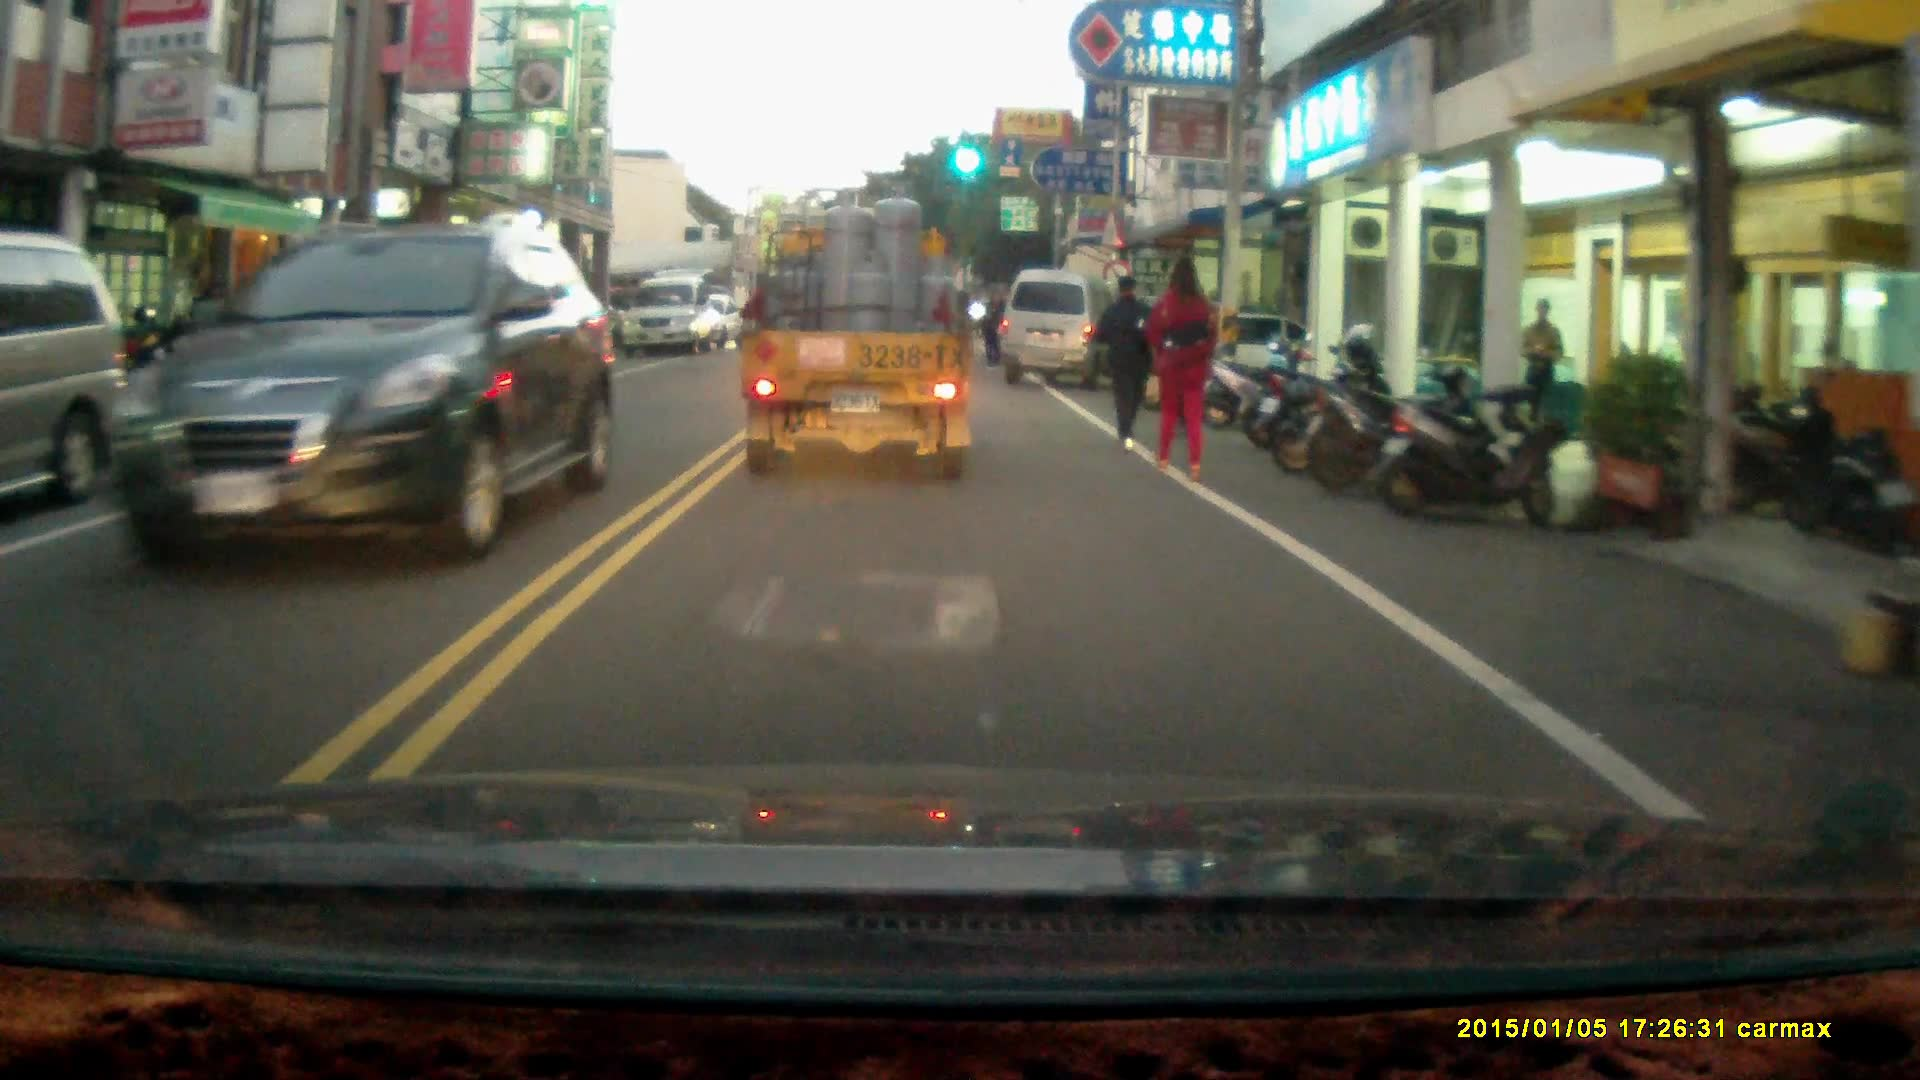pedestrian: (1146, 249, 1220, 480), (1094, 265, 1162, 450), (1517, 294, 1563, 433), (978, 288, 1011, 366)
vehicle: (98, 208, 606, 572), (737, 180, 984, 485), (1, 229, 147, 506), (239, 290, 496, 396), (1004, 267, 1127, 389), (624, 273, 723, 357)
